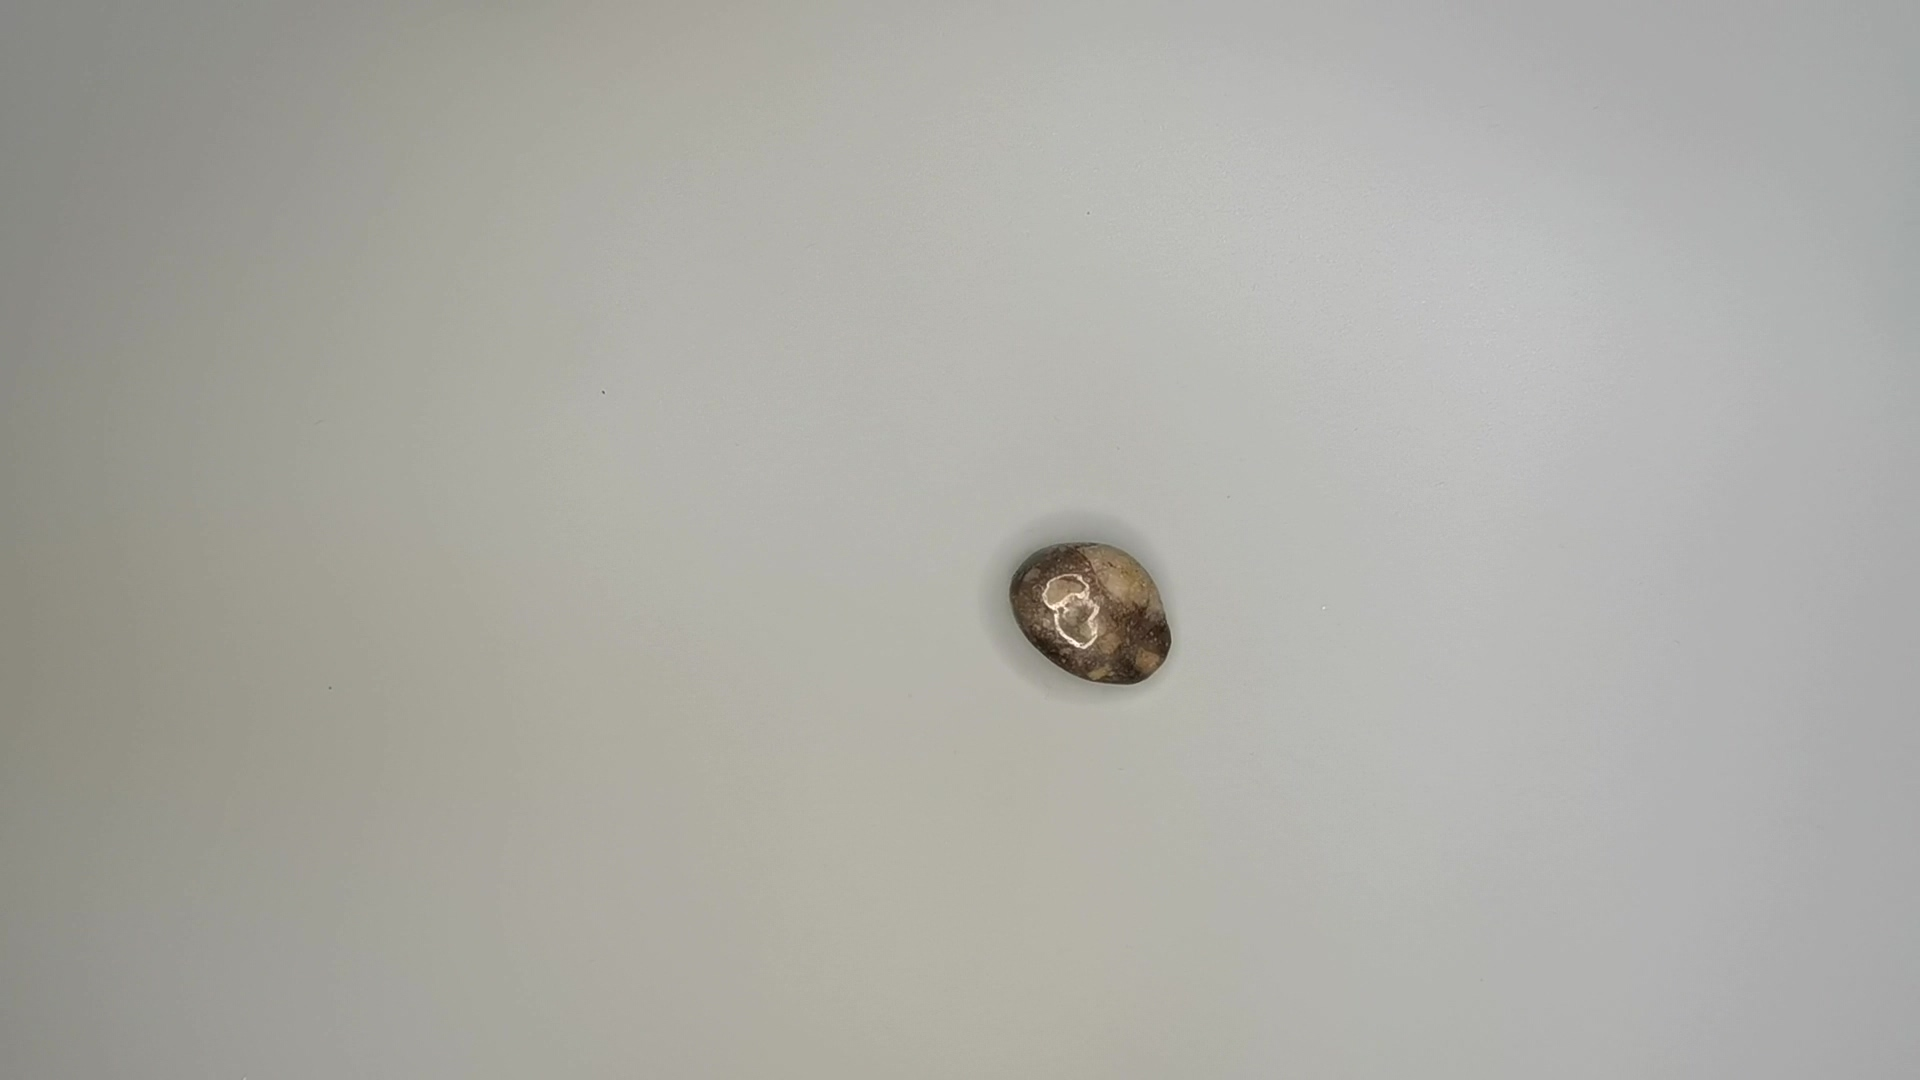ceramic: (1010, 538, 1182, 700)
